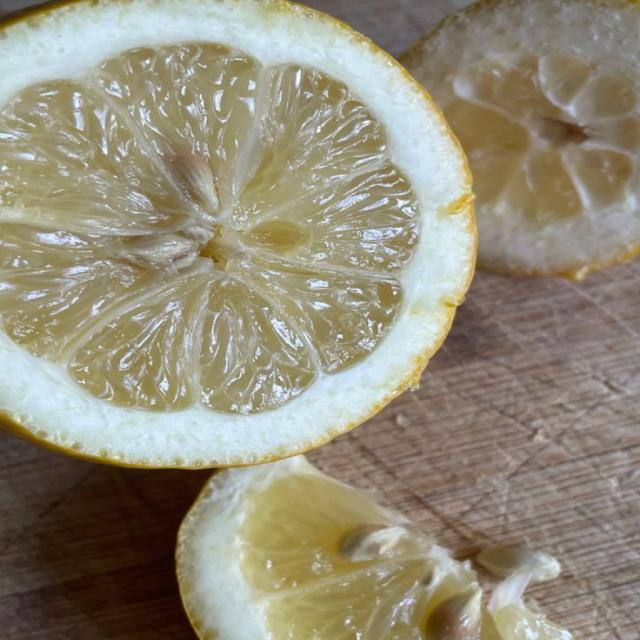lemon: (0, 0, 474, 466), (177, 457, 572, 639), (404, 0, 639, 278)
